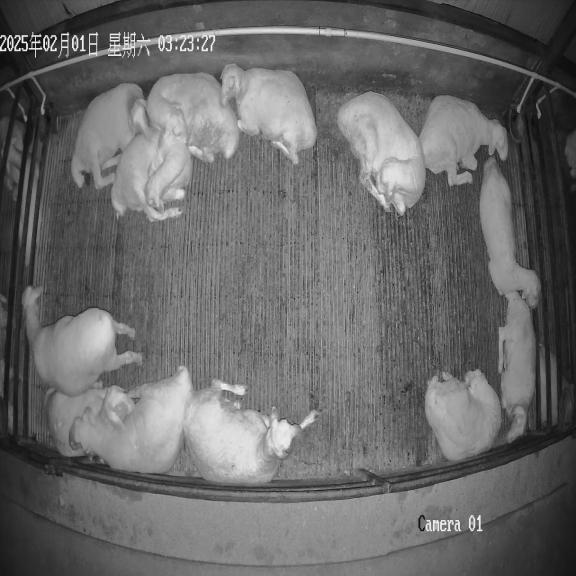lying: (183, 379, 319, 485), (72, 366, 192, 474), (337, 92, 425, 215), (221, 63, 317, 164), (479, 156, 540, 307), (71, 83, 150, 189), (146, 73, 240, 162), (419, 95, 508, 185), (111, 129, 192, 222), (425, 369, 502, 461), (45, 385, 135, 456), (498, 291, 536, 442)
stand: (22, 286, 142, 396)
